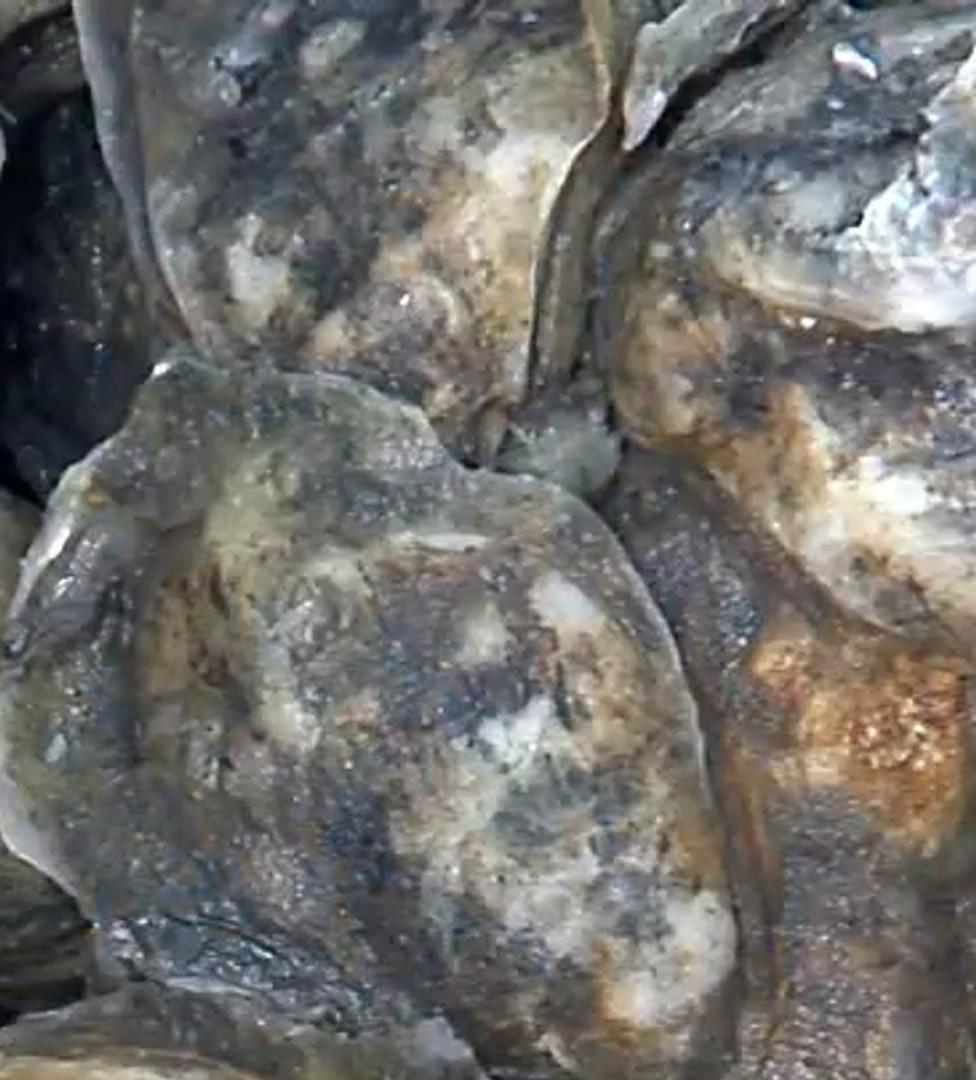3: (72, 0, 653, 462)
Oyster-Closed: (636, 1, 820, 144)
Oyster-Open: (0, 364, 743, 1080), (492, 293, 976, 1080), (595, 0, 976, 677), (0, 0, 157, 509), (0, 994, 487, 1080)
